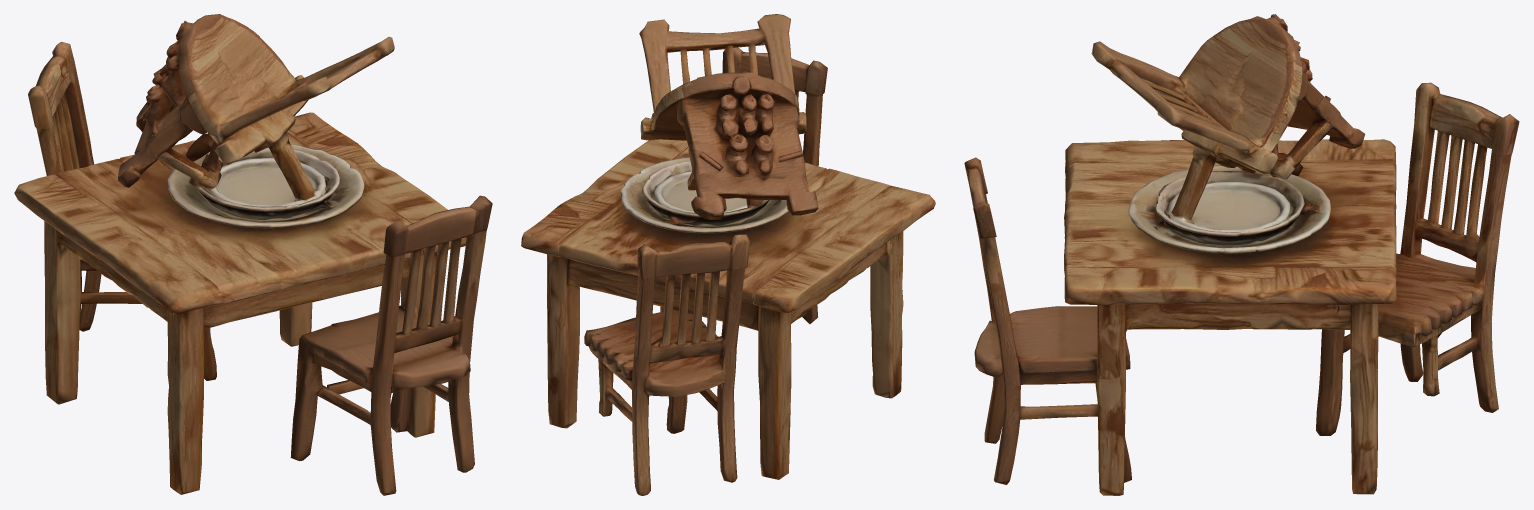
Rendered from table.glb.
3 renders of one model, left to right at view 1: azimuth 30°, elevation 25°; view 2: azimuth 150°, elevation 25°; view 3: azimuth 270°, elevation 25°, orthographic. The views are drawn at different scales.
Parts seen in each view (by area): view 1: tripo_node_70bcffe8-1fc2-4bfb-9fc1-bcde73e93278; view 2: tripo_node_70bcffe8-1fc2-4bfb-9fc1-bcde73e93278; view 3: tripo_node_70bcffe8-1fc2-4bfb-9fc1-bcde73e93278.
Boxes of the visible parts, x1,y1,x2,y2 form: tripo_node_70bcffe8-1fc2-4bfb-9fc1-bcde73e93278: [14, 14, 492, 495]; tripo_node_70bcffe8-1fc2-4bfb-9fc1-bcde73e93278: [521, 14, 935, 495]; tripo_node_70bcffe8-1fc2-4bfb-9fc1-bcde73e93278: [964, 14, 1519, 495].
Size of the model in its own units: 0.8124 by 1 by 1.26.
Materials: 1 (1 with a texture image).
